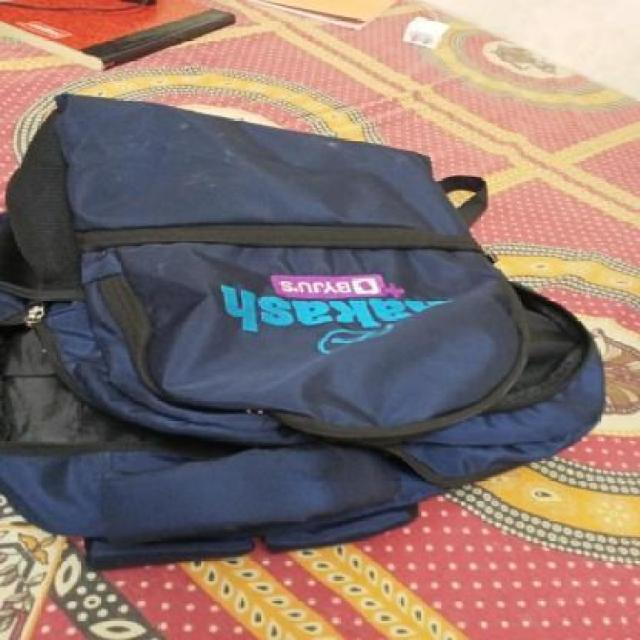backpack: (0, 86, 609, 577)
